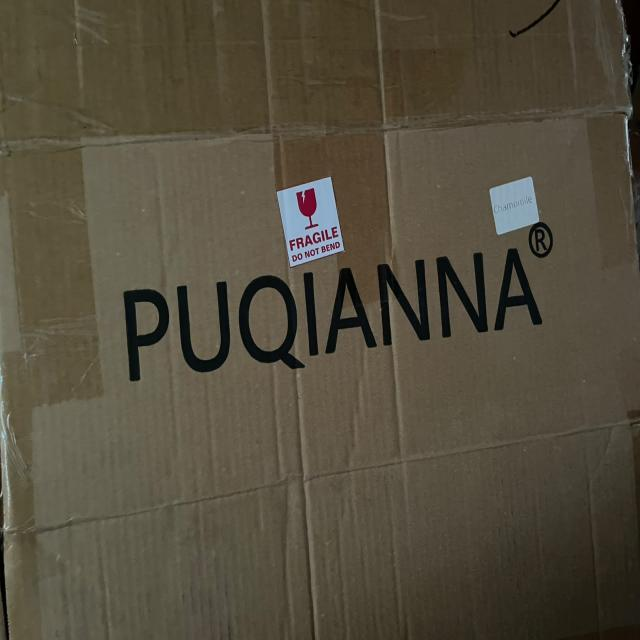carton_box: (0, 3, 640, 640)
fragile_label: (272, 167, 353, 272)
